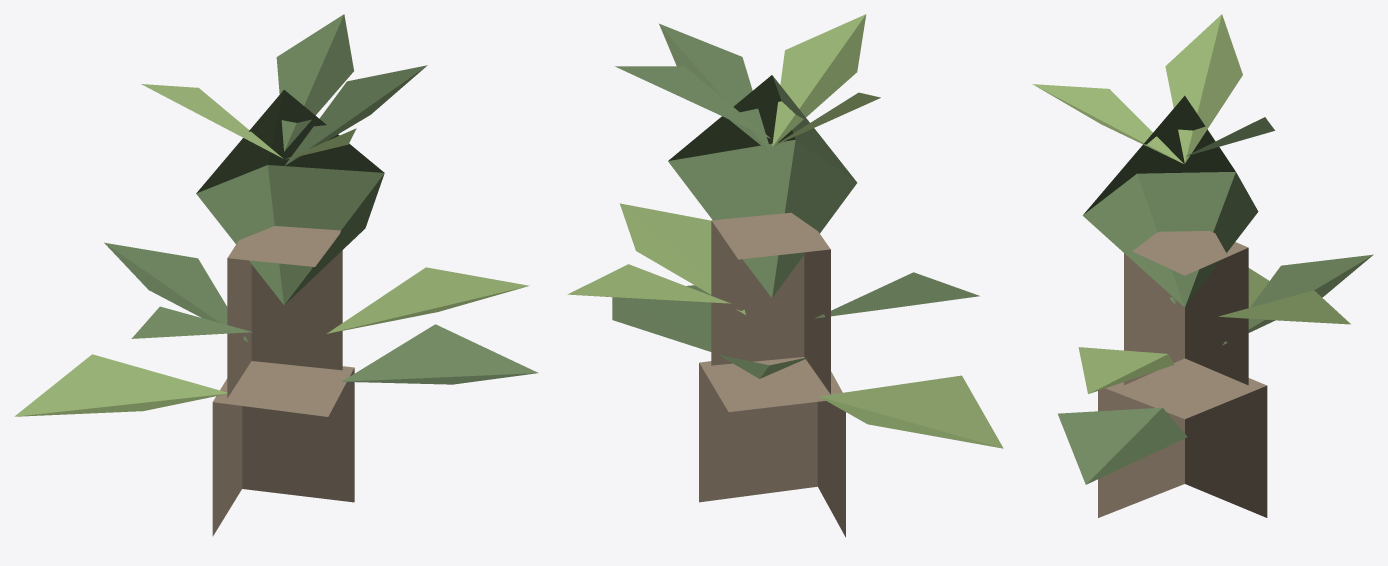
File: nong.su@seedling__summer.glb
The picture shows the model from 3 angles, left to right: view 1: azimuth 30°, elevation 25°; view 2: azimuth 150°, elevation 25°; view 3: azimuth 270°, elevation 25°; orthographic projection. The views are drawn at different scales.
Parts seen in each view (by area): view 1: nong.su@seedling__summer; view 2: nong.su@seedling__summer; view 3: nong.su@seedling__summer.
Boxes of the visible parts, bbox=[...] form: nong.su@seedling__summer: bbox=[14, 14, 537, 536]; nong.su@seedling__summer: bbox=[567, 14, 1003, 537]; nong.su@seedling__summer: bbox=[1032, 14, 1373, 517].
Size of the model in its own units: 0.0984 by 0.0942 by 0.0657.
